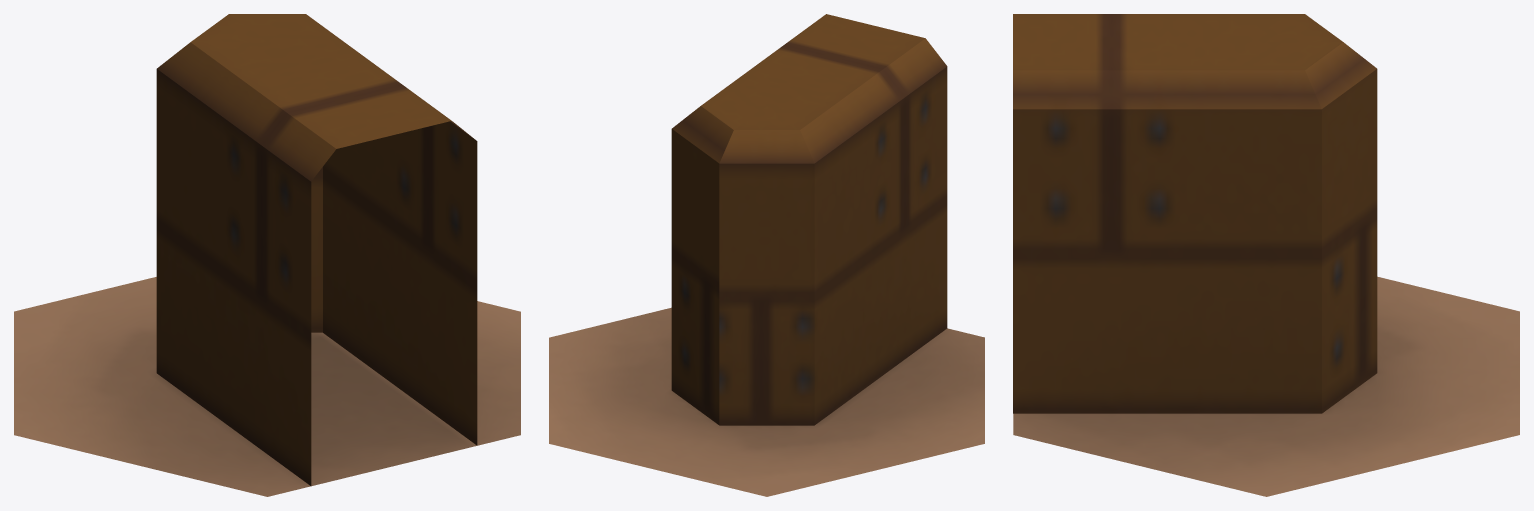
The model's file is Barriere_Fin.FBX.
3 views of the same model, side by side, from view 1: azimuth 30°, elevation 25°; view 2: azimuth 150°, elevation 25°; view 3: azimuth 270°, elevation 25° (orthographic). The views are drawn at different scales.
Visible parts, largest first — view 1: Barriere_Fin; view 2: Barriere_Fin; view 3: Barriere_Fin.
Boxes of the visible parts, bbox=[...] form: Barriere_Fin: bbox=[14, 14, 520, 496]; Barriere_Fin: bbox=[549, 14, 984, 496]; Barriere_Fin: bbox=[1013, 14, 1519, 496].
Bounding box in the file's own units: 1 × 0.6247 × 0.8661.
